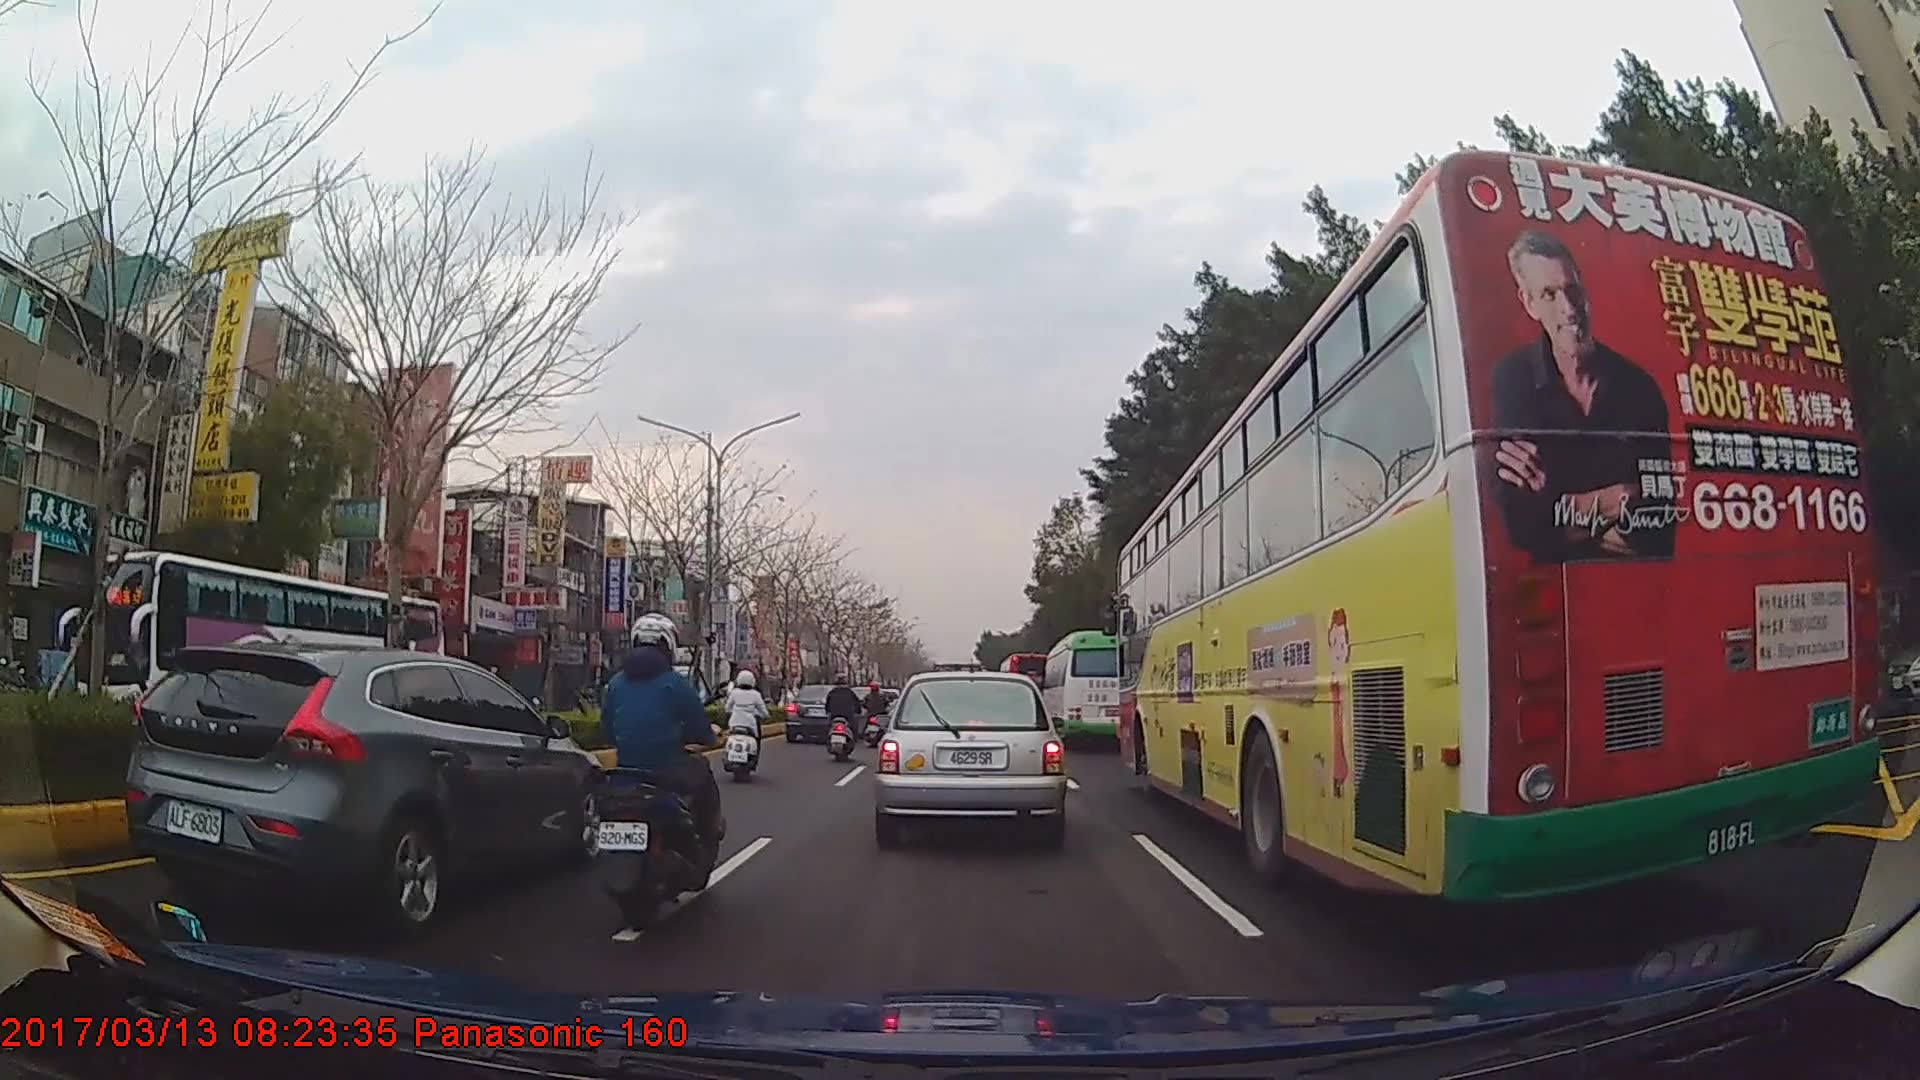rider: (593, 611, 718, 920), (722, 669, 771, 780), (826, 671, 864, 754), (860, 680, 890, 743)
vehicle: (1113, 144, 1883, 916), (122, 639, 618, 940), (84, 548, 443, 759), (874, 669, 1067, 847), (1042, 627, 1153, 750), (783, 681, 868, 743), (997, 648, 1056, 724)
